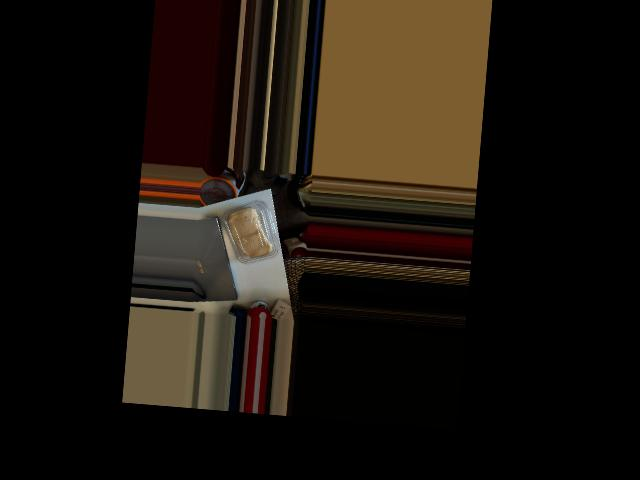cheese: (218, 193, 282, 268)
